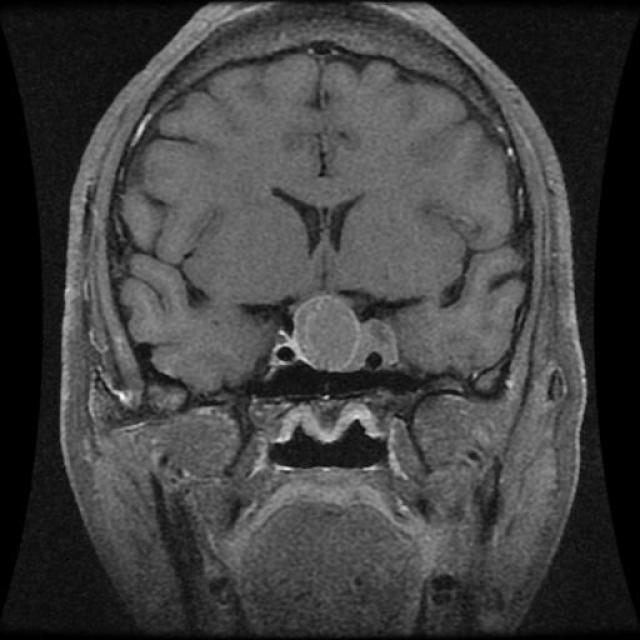pituitary: (280, 286, 370, 396)
